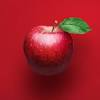apple: (22, 22, 74, 77)
